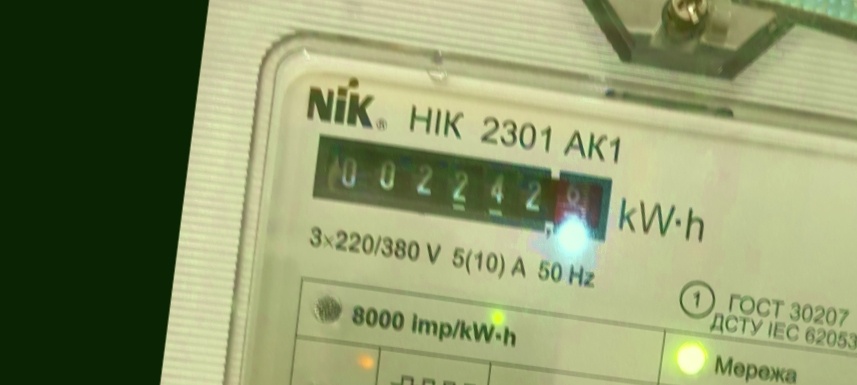0: (339, 155, 363, 191), (377, 158, 400, 193)
2: (415, 163, 438, 197), (451, 169, 473, 204), (525, 180, 545, 214)
4: (490, 172, 509, 206)
6: (566, 179, 584, 208)
screen: (300, 124, 627, 253)
